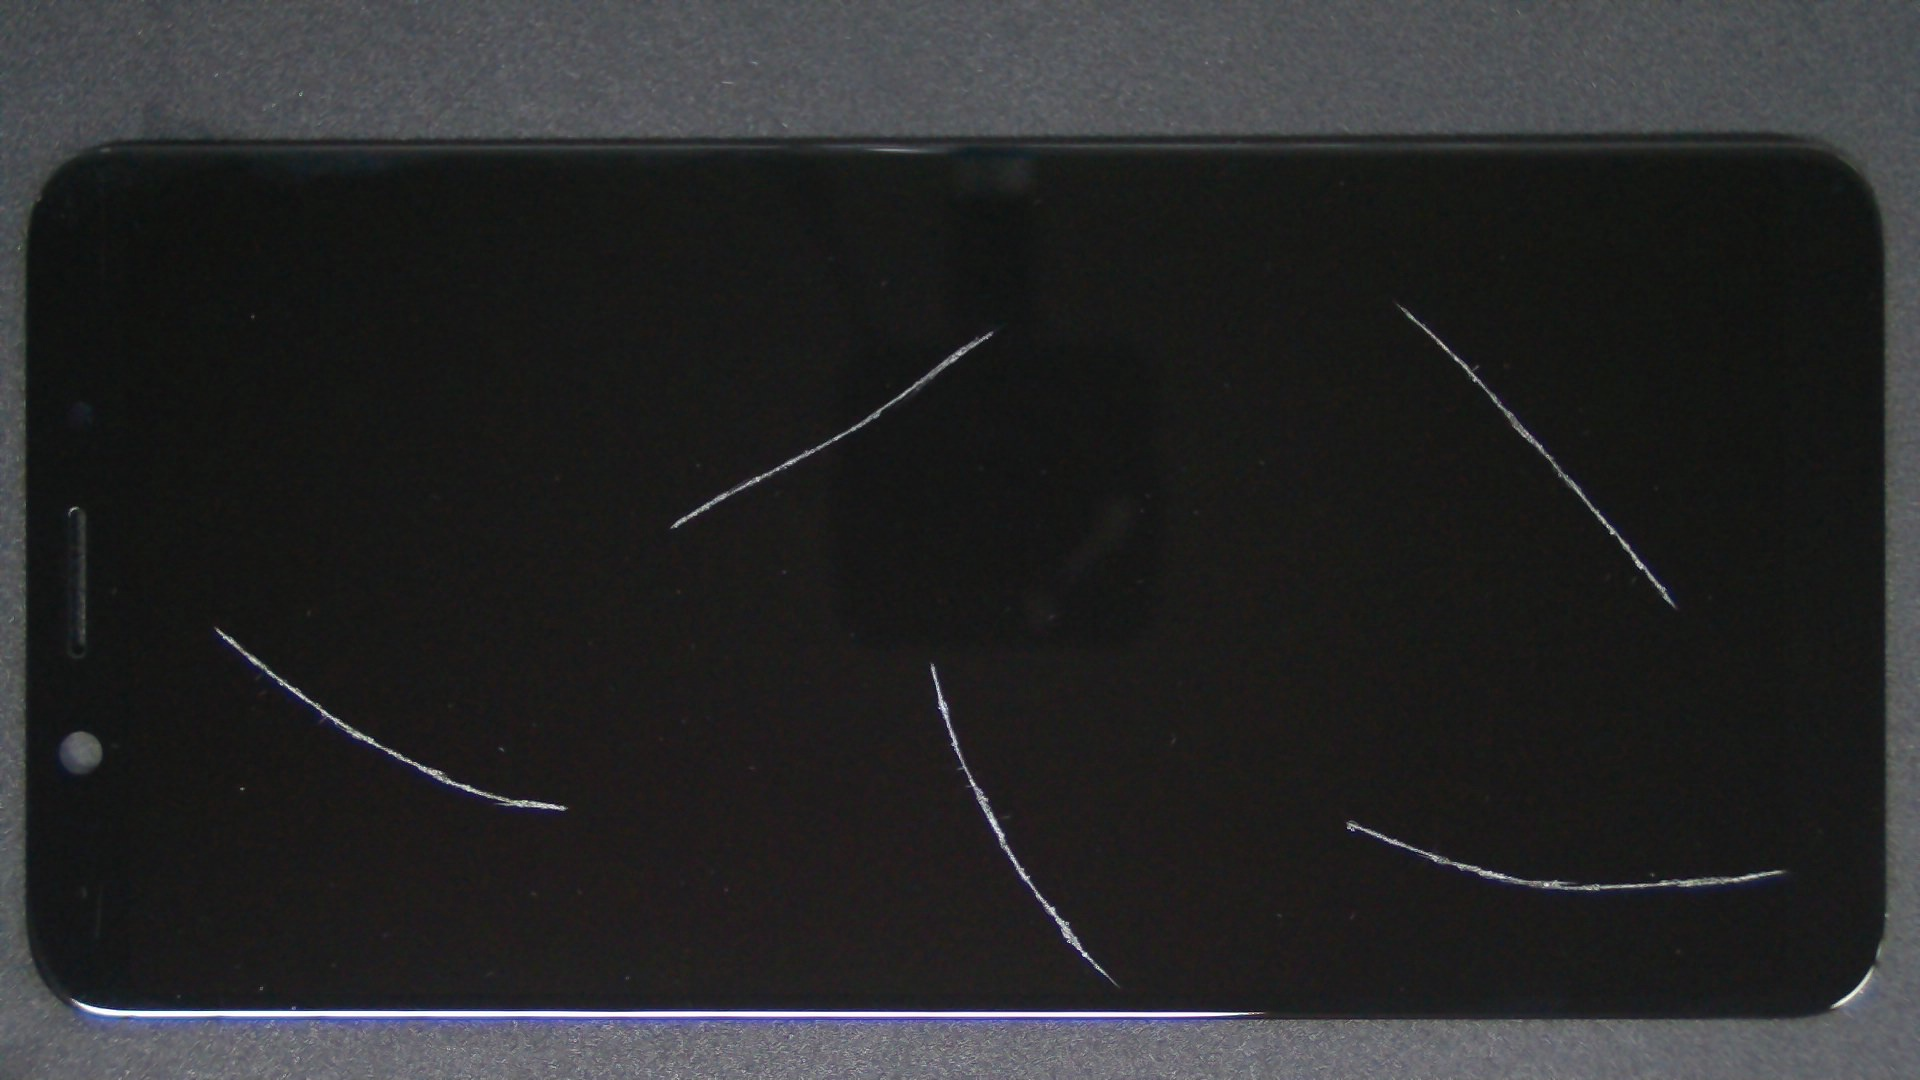oil: (673, 410, 1920, 1080), (465, 330, 1396, 997), (698, 150, 1920, 454), (496, 165, 1485, 496), (105, 311, 323, 942)
